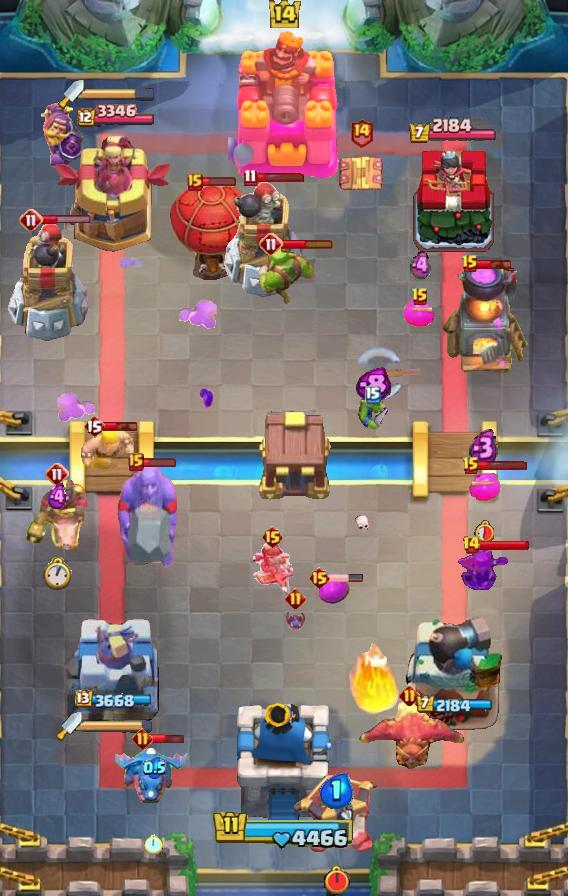archer: (80, 429, 134, 473)
archer-queen: (115, 463, 181, 575)
bar: (52, 132, 176, 256), (66, 611, 162, 731)
barbarian-barrel: (283, 607, 307, 633)
bomb: (256, 408, 336, 502)
cannon-cart: (168, 178, 252, 280)
clock: (212, 809, 356, 851)
electro-spirit: (355, 367, 391, 403), (320, 773, 354, 809), (469, 428, 499, 468), (410, 250, 431, 282), (48, 483, 69, 511), (143, 756, 166, 780)
elixir: (44, 557, 73, 591), (323, 865, 351, 896), (474, 520, 494, 544), (145, 834, 163, 854)
emote: (281, 238, 334, 250), (478, 539, 530, 551), (40, 215, 91, 226), (255, 173, 305, 184), (478, 460, 528, 471), (151, 732, 186, 745), (201, 176, 237, 188), (477, 258, 513, 270), (103, 420, 139, 432), (141, 456, 177, 468), (328, 573, 364, 583)
evolution-symbol: (456, 543, 508, 603)
firecracker-evolution: (41, 102, 85, 170)
flying-machine: (259, 246, 315, 304)
freeze: (24, 480, 90, 552)
goblin-brawler: (337, 152, 385, 196)
graveyard: (115, 742, 193, 806)
hunter: (441, 266, 529, 376)
king-tower: (228, 29, 340, 181), (235, 703, 333, 826)
king-tower-bar: (84, 87, 156, 101), (82, 719, 154, 733)
lava-pup: (293, 774, 381, 856)
miner: (404, 297, 436, 327), (468, 471, 500, 501), (319, 574, 351, 604)
mother-witch: (351, 702, 467, 774)
queen-tower: (410, 144, 496, 255)
royal-giant: (354, 346, 420, 402)
selected: (408, 117, 498, 145), (74, 103, 154, 128), (74, 690, 154, 710), (416, 695, 493, 715)
skeleton-dragon: (250, 540, 294, 600)
text: (350, 116, 375, 147), (19, 208, 43, 232), (259, 232, 283, 256), (45, 462, 69, 486), (260, 525, 283, 549), (308, 566, 331, 590), (83, 414, 105, 438), (399, 686, 421, 707), (131, 728, 153, 749), (286, 588, 307, 609), (462, 535, 482, 555), (461, 254, 479, 274), (411, 287, 429, 307), (462, 456, 480, 476), (187, 173, 203, 191), (365, 386, 381, 404), (128, 453, 144, 471), (243, 169, 257, 188)
tower-bar: (402, 615, 504, 731)
valkyrie: (342, 629, 402, 719)
zap: (353, 393, 393, 431)
zappy: (5, 221, 91, 345), (221, 180, 305, 302)
